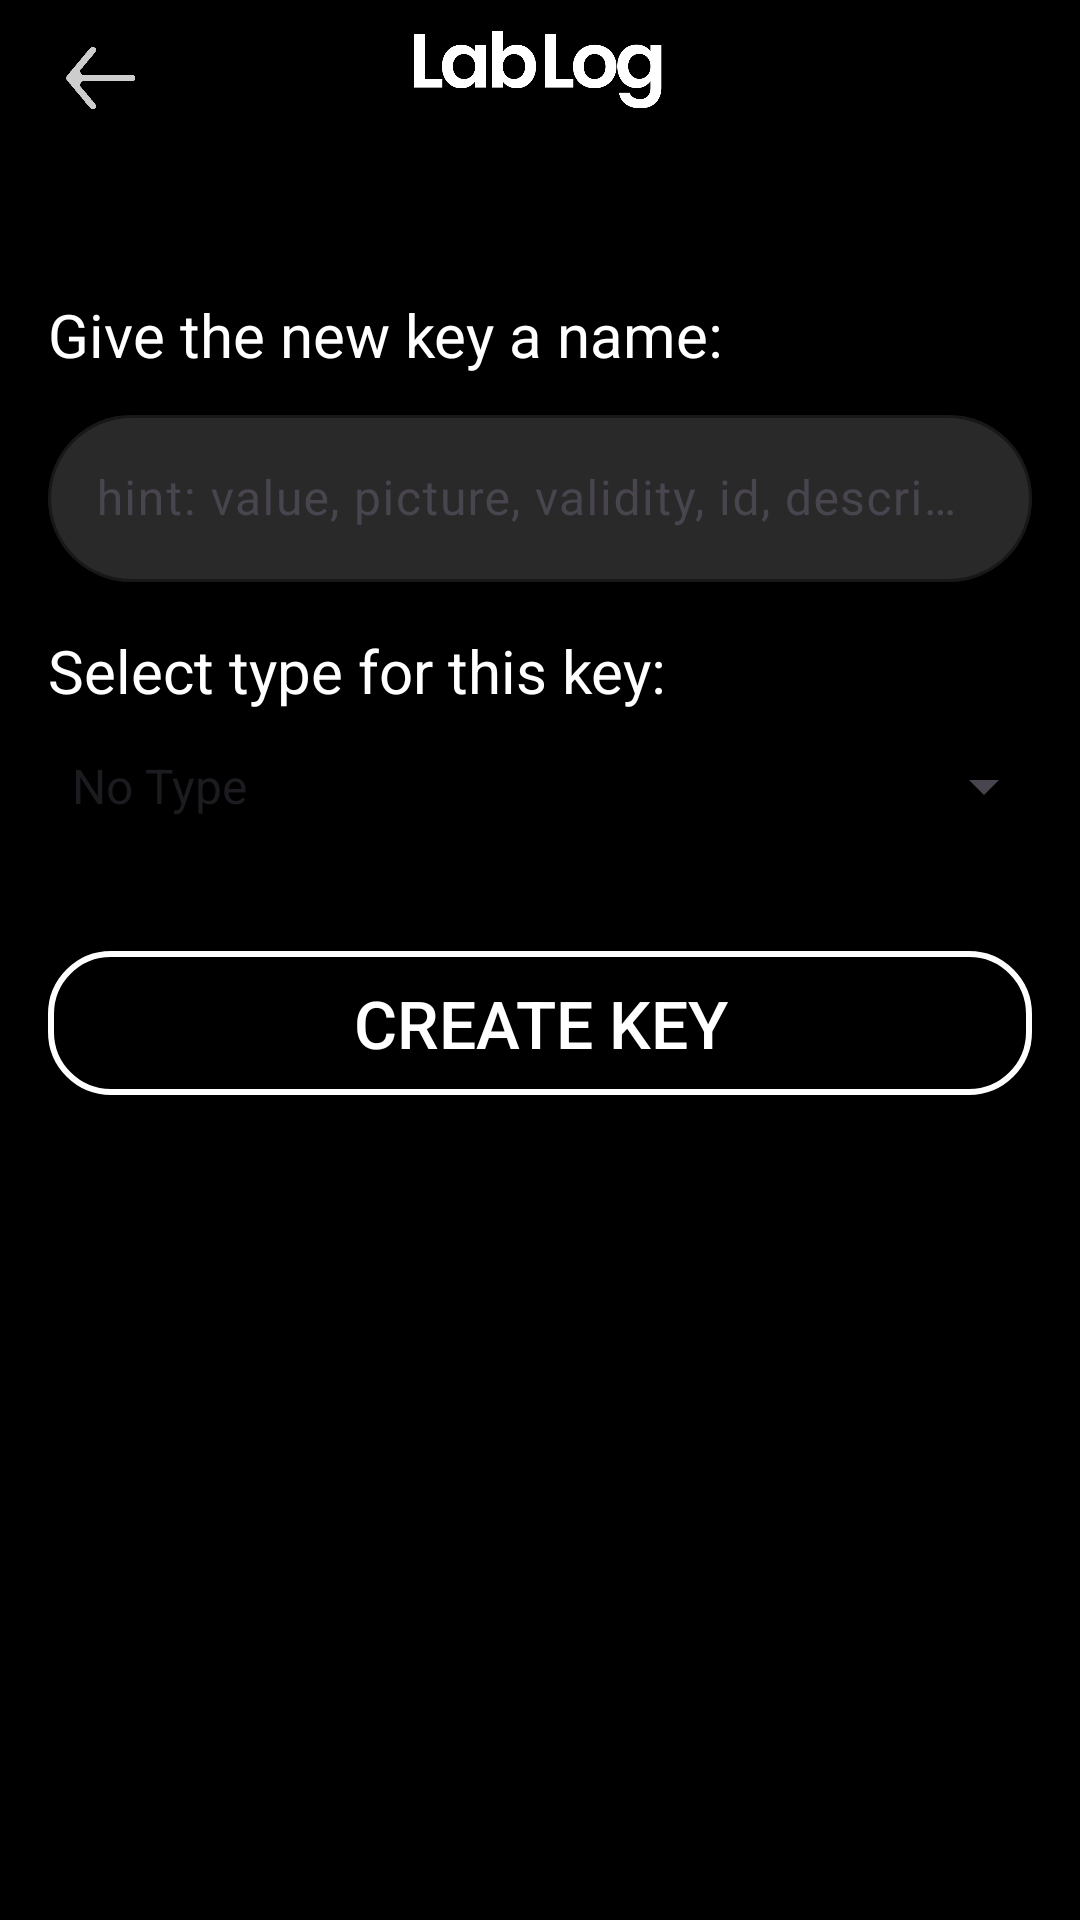

Icons on this 1080px x 1920px Android screen, each with the point to tap as (x=x, y=y):
back icon: (x=100, y=78)
